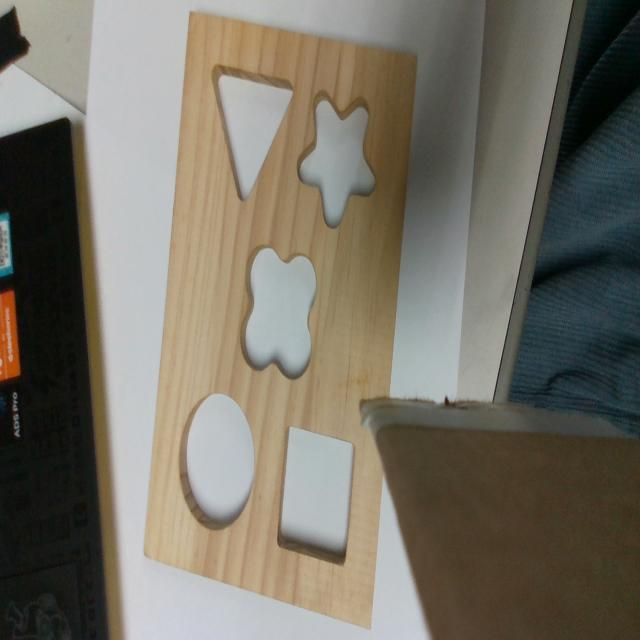circle: (179, 394, 254, 531)
flower: (240, 245, 316, 380)
square: (278, 427, 355, 566)
star: (297, 89, 374, 228)
triangle: (213, 64, 293, 200)
